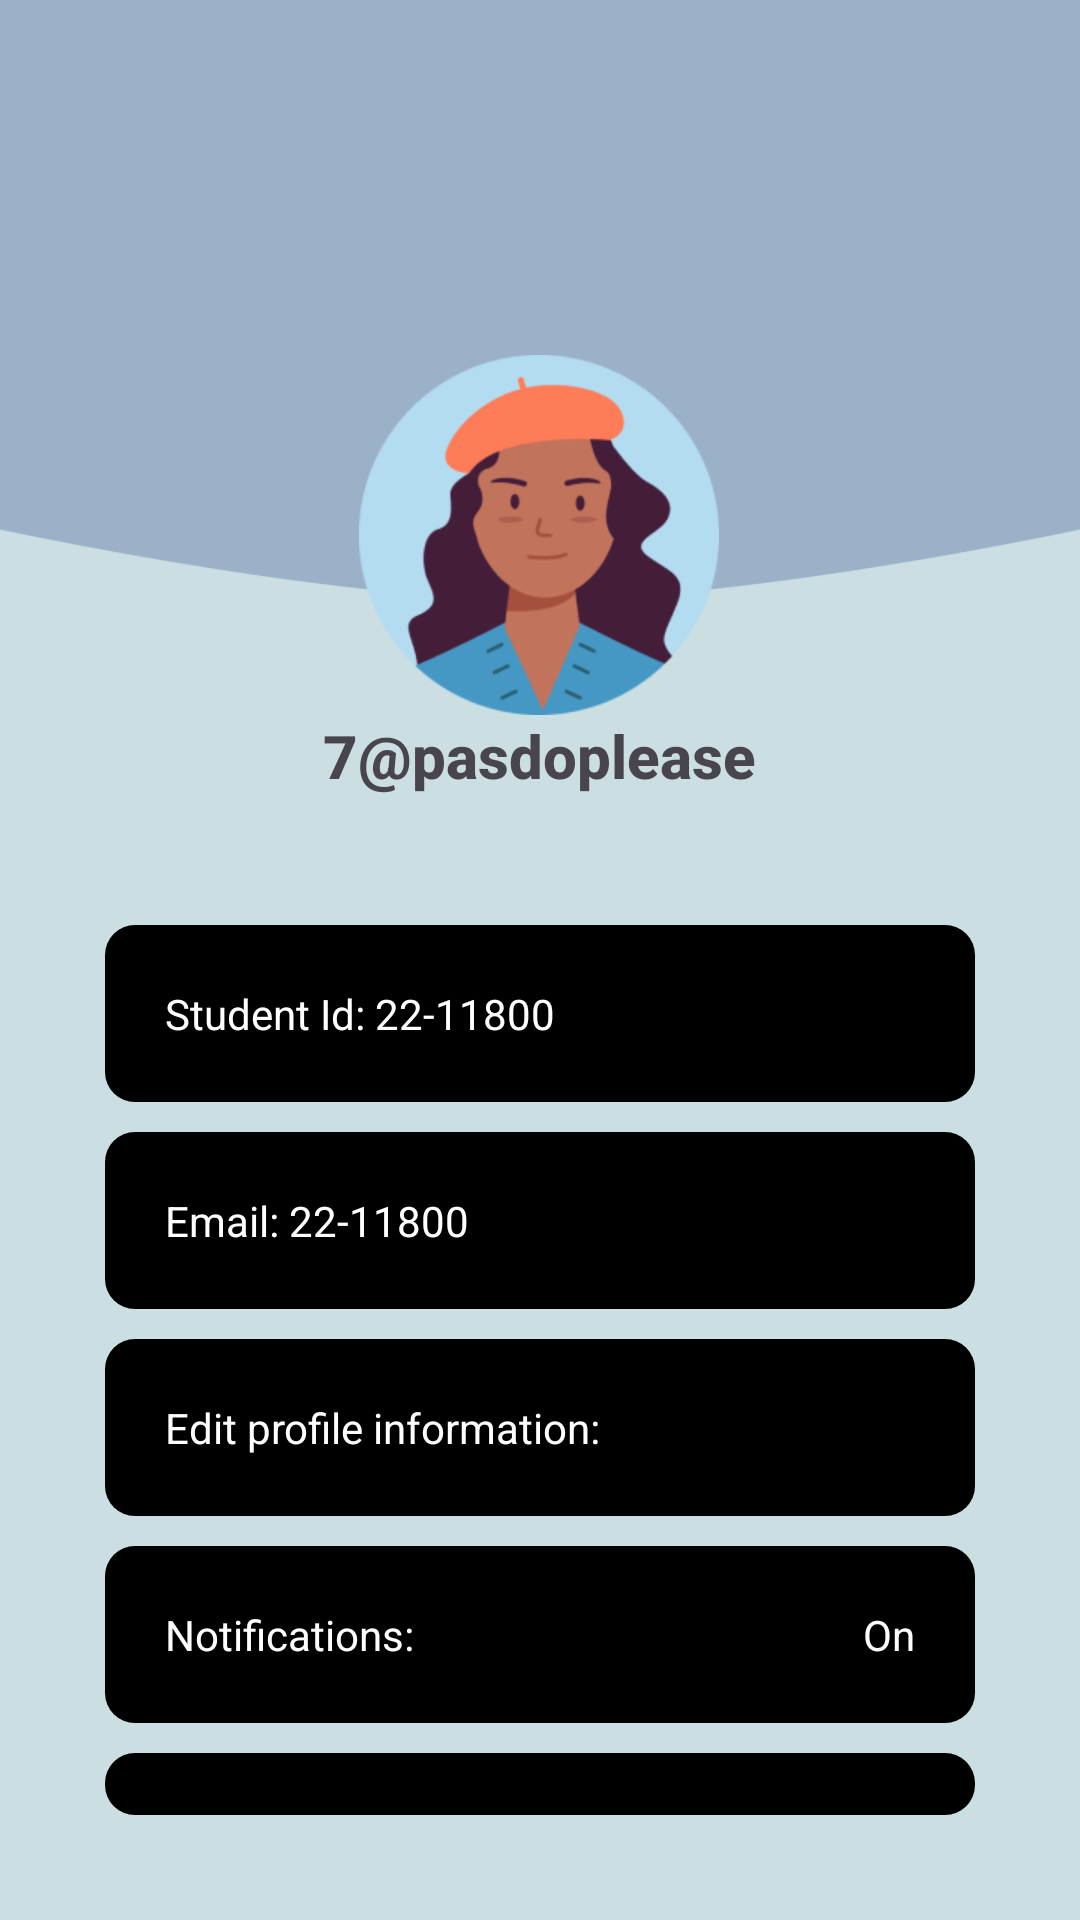

Icon click points for this 1080w x 1920h phone screenshot, format (x=x, y=y):
profile: (x=539, y=535)
